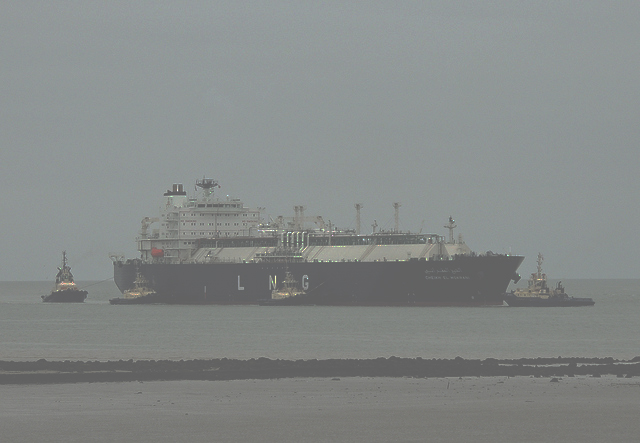LNG_ship: (114, 175, 514, 309)
tug_boat: (506, 256, 596, 311), (41, 250, 87, 303), (257, 264, 309, 308), (106, 269, 156, 307)
